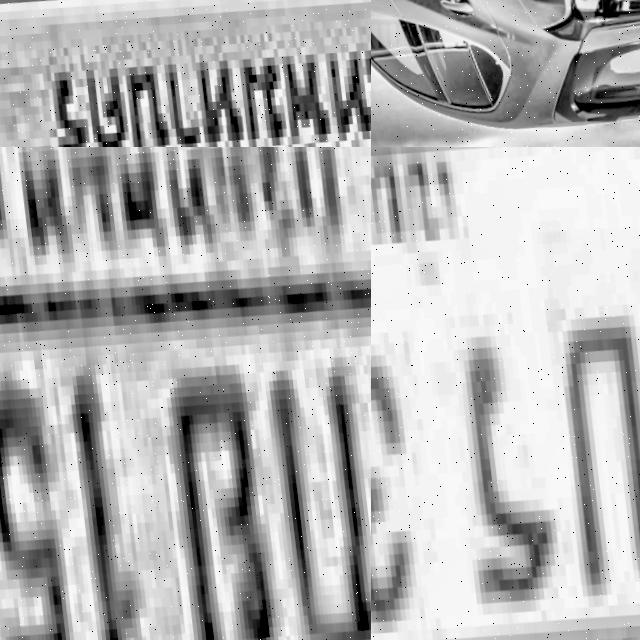license-plate: (0, 147, 371, 640), (371, 147, 640, 640), (0, 0, 371, 147)
